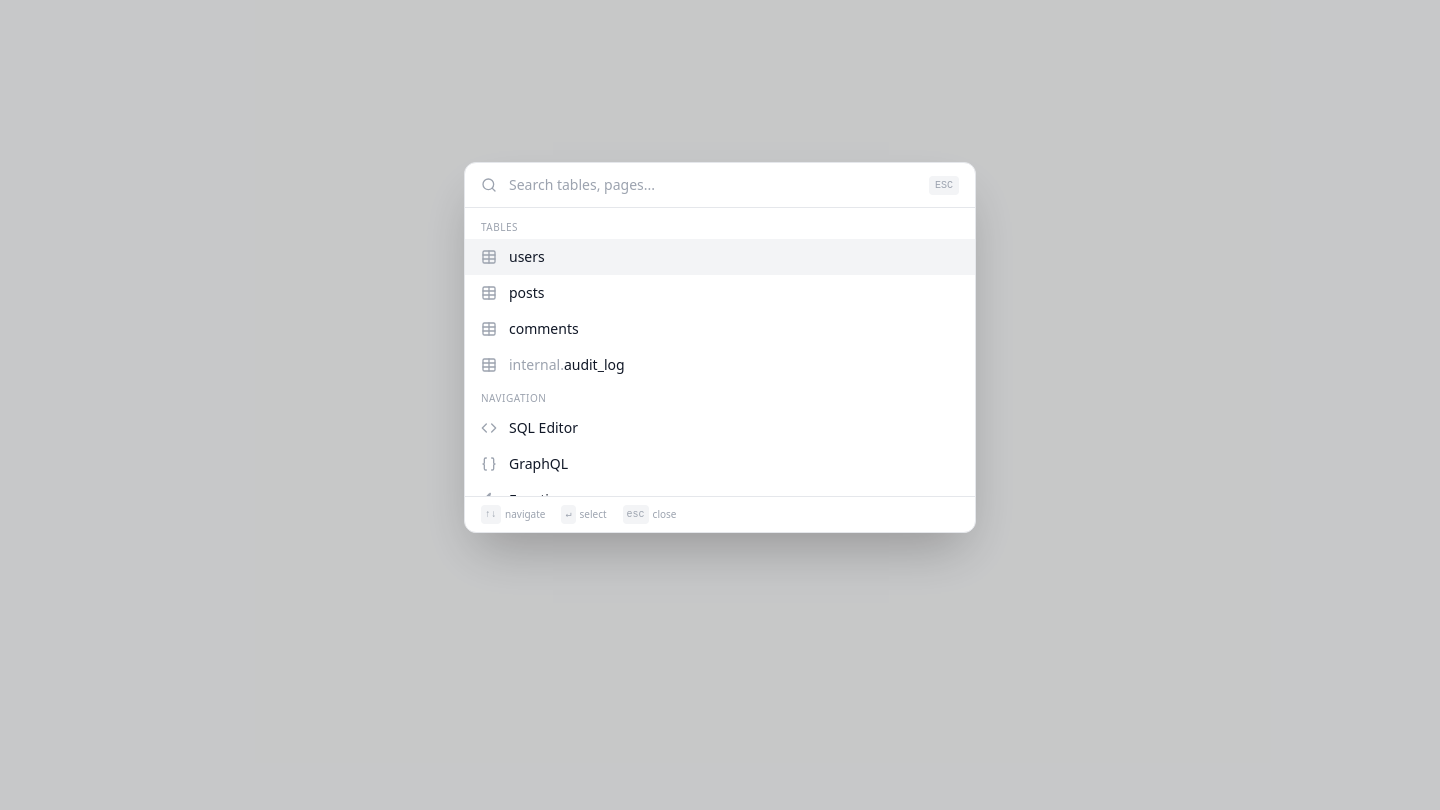
it: CommandPalette › fuzzy matches table names
"cmts" should fuzzy-match "comments"
Step 1. Type "cmts" into the field with placeholder "Search tables, pages..." → (713, 185), box [509,175,917,195]
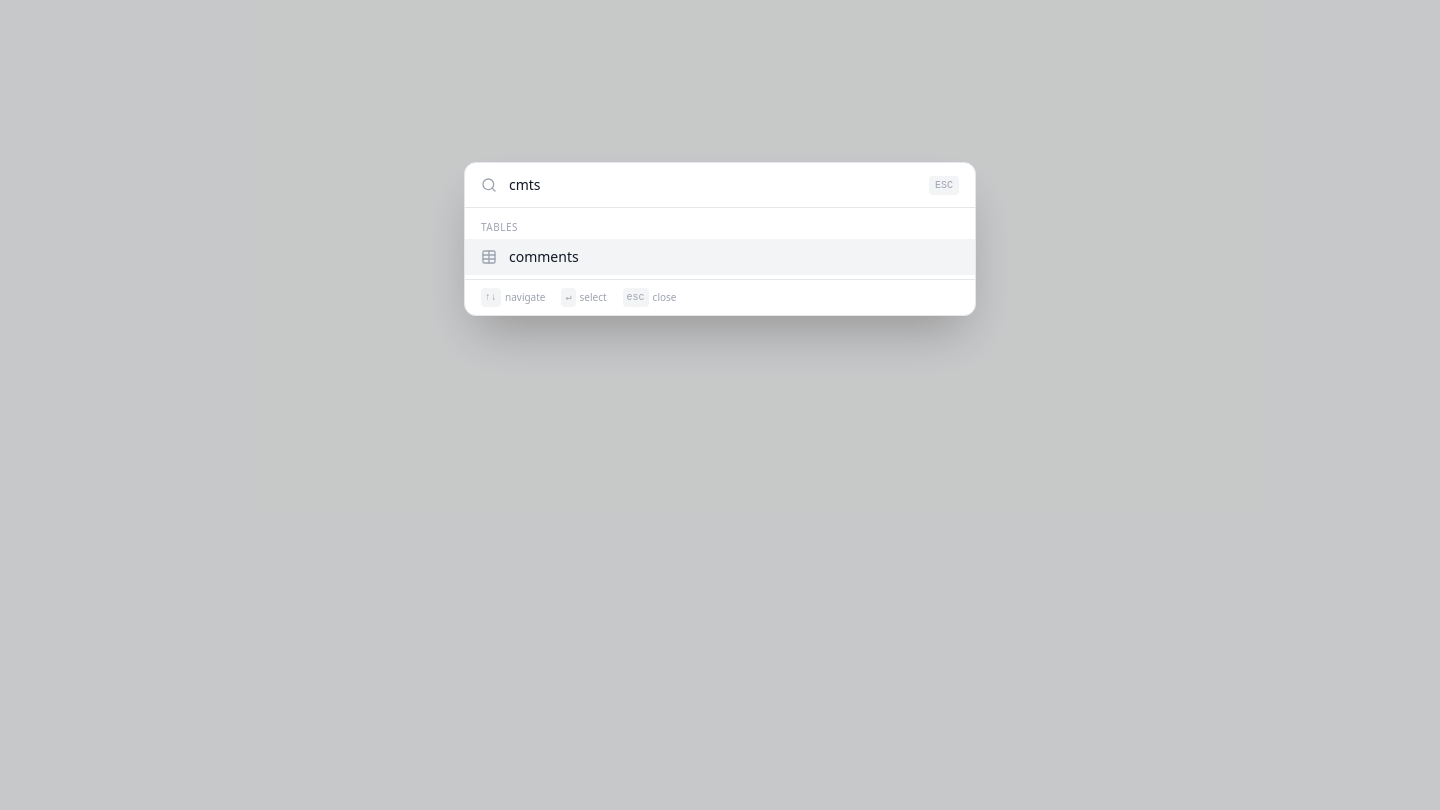
Expected: the text "comments" is shown, [509,247,579,266]
Now the button "users" is gone
